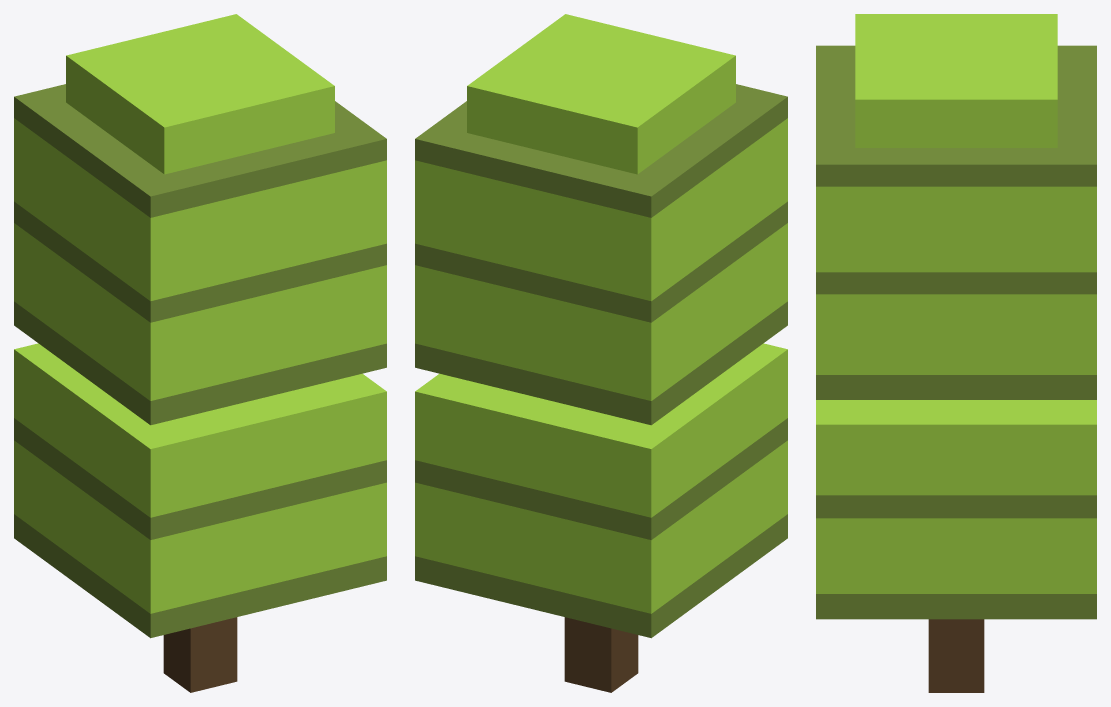
The model's file is tree.glb.
3 views of the same model, side by side, from view 1: azimuth 30°, elevation 25°; view 2: azimuth 150°, elevation 25°; view 3: azimuth 270°, elevation 25° (orthographic). The views are drawn at different scales.
Parts seen in each view (by area): view 1: Sol.001; view 2: Sol.001; view 3: Sol.001.
Part boxes in pixels (x1,y1,x2,y2): Sol.001: [14, 14, 386, 692]; Sol.001: [415, 14, 787, 692]; Sol.001: [816, 14, 1096, 692].
Bounding box in the file's own units: 7.81 × 19.16 × 7.81.
